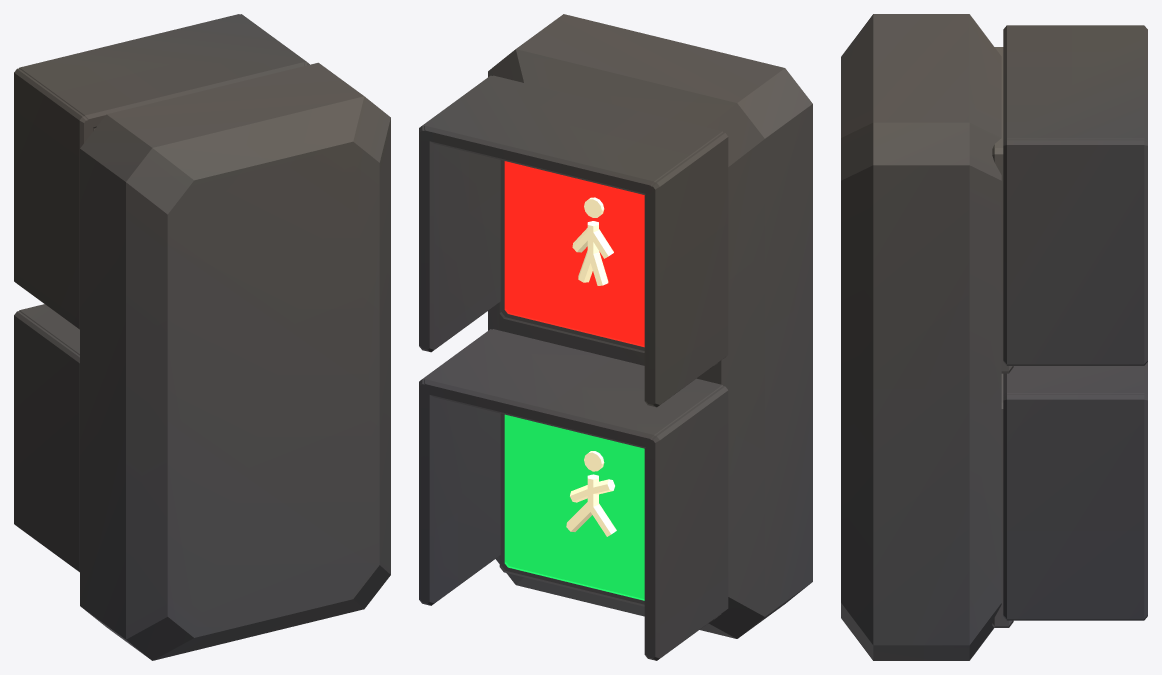
Rendered from ART_Signal_Pedestrian.glb.
The picture shows the model from 3 angles, left to right: view 1: azimuth 30°, elevation 25°; view 2: azimuth 150°, elevation 25°; view 3: azimuth 270°, elevation 25°; orthographic projection. The views are drawn at different scales.
Visible parts, largest first — view 1: ART_Signal_Pedestrian; view 2: ART_Signal_Pedestrian; view 3: ART_Signal_Pedestrian.
Part boxes in pixels (x1,y1,x2,y2): ART_Signal_Pedestrian: [14, 14, 390, 660]; ART_Signal_Pedestrian: [419, 14, 812, 660]; ART_Signal_Pedestrian: [841, 14, 1147, 660].
Bounding box in the file's own units: 0.4 × 0.74 × 0.382.
